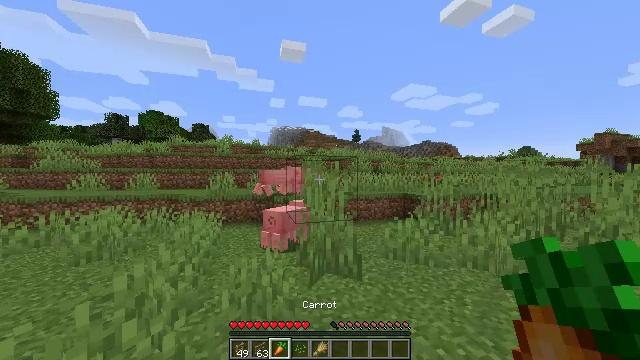pig: (260, 202, 312, 252), (252, 166, 300, 196)
